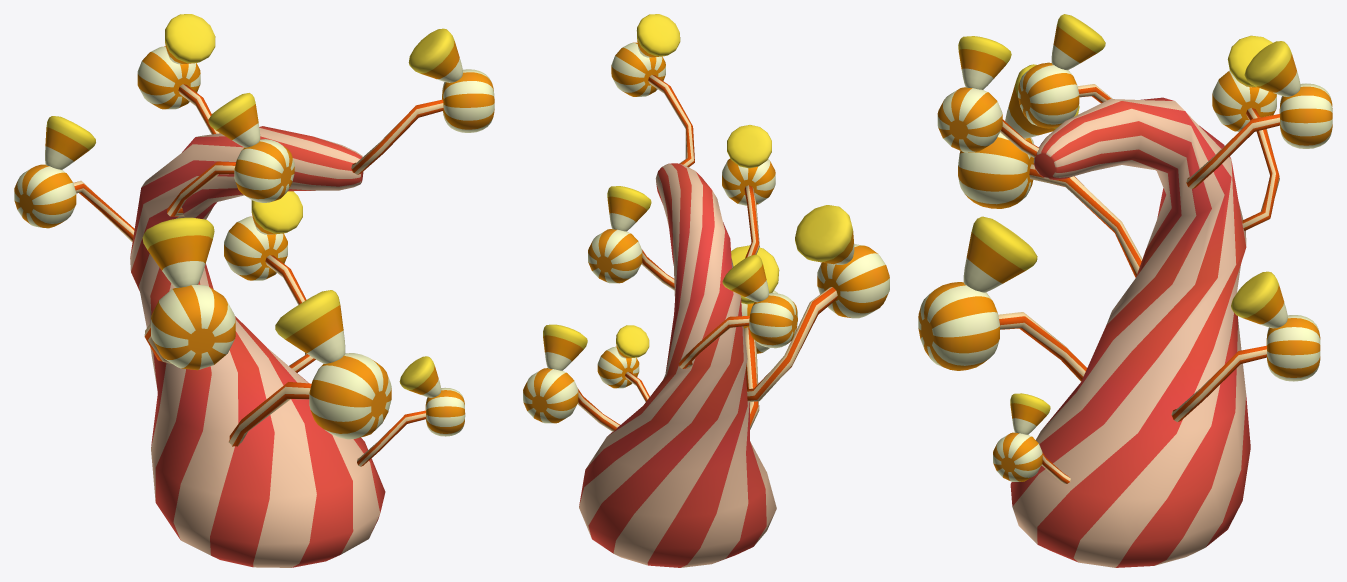
File: cw_PlantsFlowers_15.fbx
3 views of the same model, side by side, from view 1: azimuth 30°, elevation 25°; view 2: azimuth 150°, elevation 25°; view 3: azimuth 270°, elevation 25° (orthographic). The views are drawn at different scales.
Visible parts, largest first — view 1: cw_pf_15; view 2: cw_pf_15; view 3: cw_pf_15.
Part boxes in pixels (<box>): cw_pf_15: <box>14,14,494,567</box>; cw_pf_15: <box>523,14,889,567</box>; cw_pf_15: <box>918,14,1332,567</box>.
Size of the model in its own units: 154 by 232 by 158.
